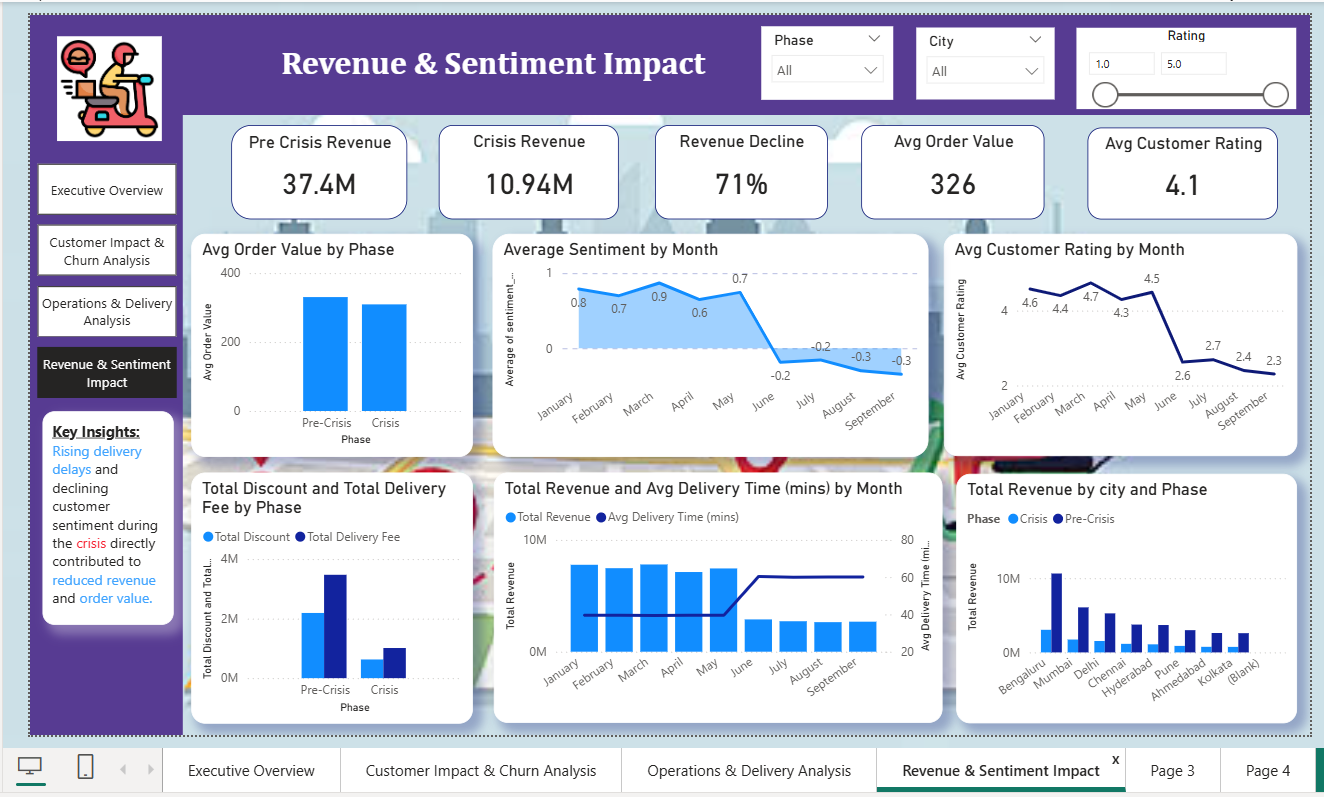

The dashboard page shown, as its layout file describes it:
{"tool":"powerbi","page":{"name":"Revenue & Sentiment Impact","canvas":[1280,720],"ordinal":3},"visuals":[{"type":"shape","box":[127.2,0,1153.1,100.3],"z":0},{"type":"shape","box":[0,0,152.9,720.2],"z":1000},{"type":"textbox","box":[216.4,23.2,494,50.1],"z":2000},{"type":"image","box":[6.1,20.8,146.7,105.2],"z":3000},{"type":"card","title":"Pre Crisis Revenue","fields":{"Values":["fact_orders.Pre Crisis Revenue"]},"box":[201.8,110.1,176.1,94.2],"z":4000},{"type":"card","title":"Crisis Revenue","fields":{"Values":["fact_orders.Crisis Revenue"]},"box":[408.4,110.1,179.8,94.2],"z":5000},{"type":"card","title":"Revenue Decline","fields":{"Values":["fact_orders.Revenue Decline %"]},"box":[624.9,110.1,172.4,94.2],"z":6000},{"type":"columnChart","fields":{"Category":["dim_date.Phase"],"Y":["dim_customer.Avg Order Value"]},"box":[161.4,218.6,281.4,222.9],"z":7000},{"type":"clusteredColumnChart","fields":{"Category":["dim_date.Phase"],"Y":["fact_orders.Total Discount","fact_orders.Total Delivery Fee"]},"box":[161.2,457.5,281.2,251.2],"z":8000},{"type":"lineChart","fields":{"Y":["dim_customer.Avg Customer Rating"],"Category":["dim_date.Month"]},"box":[913.5,218.9,353.4,222.6],"z":9000},{"type":"areaChart","title":"Average Sentiment by Month","fields":{"Y":["Avg(fact_ratings.sentiment_score)"],"Category":["dim_date.Month"]},"box":[462.9,218.6,435.7,222.9],"z":10000},{"type":"slicer","fields":{"Values":["dim_date.Phase"]},"box":[731.3,11,132.1,73.4],"z":11000},{"type":"slicer","fields":{"Values":["dim_customer.city"]},"box":[886.6,12.2,138.2,72.1],"z":12000},{"type":"pageNavigator","box":[7.3,149.2,139.4,237.2],"z":13000},{"type":"slicer","title":"Rating","fields":{"Values":["fact_ratings.rating"]},"box":[1046.7,12.2,220.1,81.9],"z":14000},{"type":"lineStackedColumnComboChart","fields":{"Category":["dim_date.Month"],"Y":["dim_customer.Total Revenue"],"Y2":["fact_delivery_performance.Avg Delivery Time (mins)"]},"box":[463.8,457.5,448.8,250],"z":15000},{"type":"clusteredColumnChart","fields":{"Category":["dim_customer.city"],"Y":["dim_customer.Total Revenue"],"Series":["dim_date.Phase"]},"box":[925.7,458.6,341.2,249.5],"z":16000},{"type":"card","title":"Avg Order Value","fields":{"Values":["dim_customer.Avg Order Value"]},"box":[831.5,110.1,183.4,94.2],"z":17000},{"type":"card","title":"Avg Customer Rating","fields":{"Values":["dim_customer.Avg Customer Rating"]},"box":[1057.8,112.5,190.8,91.7],"z":18000},{"type":"textbox","box":[12.2,396.2,130.8,214],"z":19000}]}

Visuals, with their boxes on the page's 1280x720 design canvas (x1, y1, x2, y2). These are canvas units, not pixel positions in the 1324x797 screenshot, which may show the page scaled, cropped or inside an application window:
shape: 127 0 1280 100
shape: 0 0 153 720
textbox: 216 23 710 73
image: 6 21 153 126
"Pre Crisis Revenue" card: 202 110 378 204
"Crisis Revenue" card: 408 110 588 204
"Revenue Decline" card: 625 110 797 204
columnChart - dim_date.Phase x dim_customer.Avg Order Value: 161 219 443 442
clusteredColumnChart - dim_date.Phase x fact_orders.Total Discount: 161 458 442 709
lineChart - dim_customer.Avg Customer Rating x dim_date.Month: 914 219 1267 442
"Average Sentiment by Month" areaChart: 463 219 899 442
slicer - dim_date.Phase: 731 11 863 84
slicer - dim_customer.city: 887 12 1025 84
pageNavigator: 7 149 147 386
"Rating" slicer: 1047 12 1267 94
lineStackedColumnComboChart - dim_date.Month x dim_customer.Total Revenue: 464 458 913 708
clusteredColumnChart - dim_customer.city x dim_customer.Total Revenue: 926 459 1267 708
"Avg Order Value" card: 832 110 1015 204
"Avg Customer Rating" card: 1058 112 1249 204
textbox: 12 396 143 610
